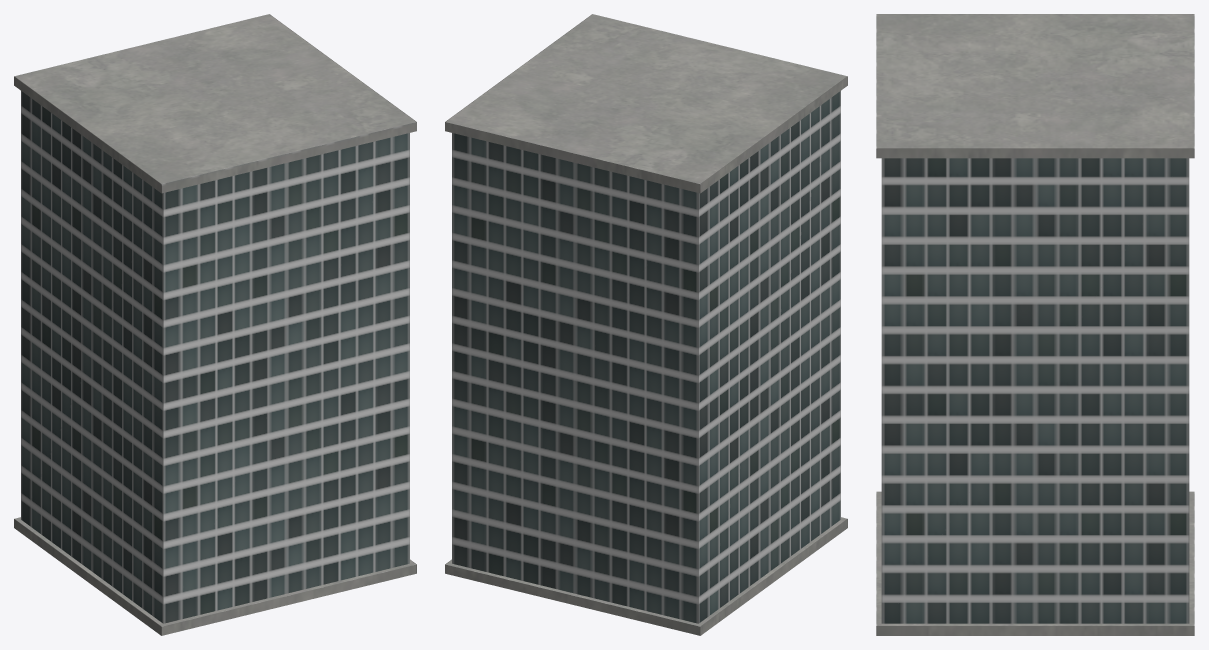
The model's file is building.tower_03_2.glb.
3 views of the same model, side by side, from view 1: azimuth 30°, elevation 25°; view 2: azimuth 150°, elevation 25°; view 3: azimuth 270°, elevation 25° (orthographic). The views are drawn at different scales.
Parts seen in each view (by area): view 1: building_032; view 2: building_032; view 3: building_032.
Boxes of the visible parts, left/top/right/bottom form: building_032: left=14, top=14, right=416, bottom=635; building_032: left=445, top=14, right=847, bottom=635; building_032: left=876, top=14, right=1194, bottom=635.
Size of the model in its own units: 29 by 49 by 29.
1 material, 1 textured.
